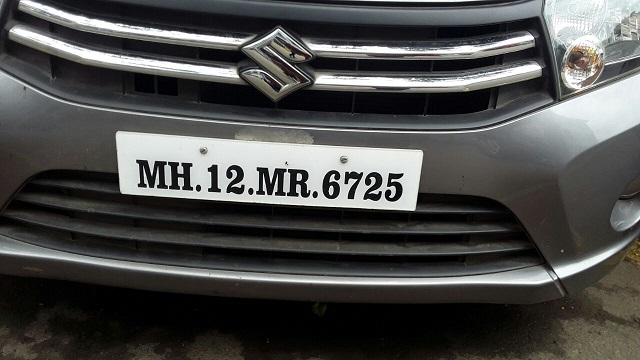licenseplate: (115, 130, 424, 212)
